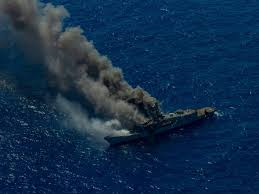Ship: (105, 106, 215, 143)
